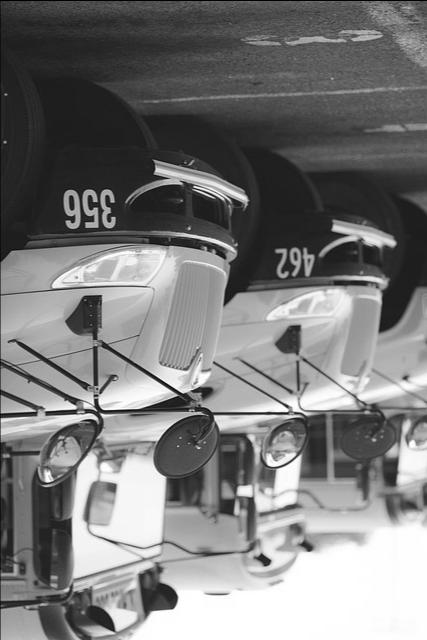Non_Gorille: (0, 1, 425, 640)
